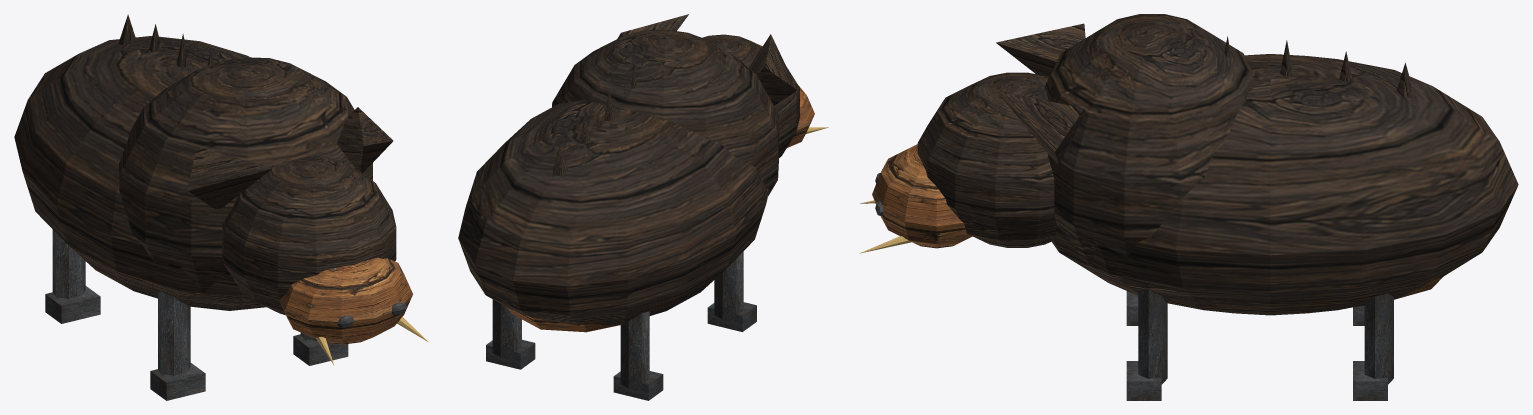
The model's file is wild-hog.glb.
3 renders of one model, left to right at view 1: azimuth 30°, elevation 25°; view 2: azimuth 150°, elevation 25°; view 3: azimuth 270°, elevation 25°, orthographic. The views are drawn at different scales.
Parts seen in each view (by area): view 1: wild-hog_merged_mesh; view 2: wild-hog_merged_mesh; view 3: wild-hog_merged_mesh.
Boxes of the visible parts, x1,y1,x2,y2 form: wild-hog_merged_mesh: (14,14,428,400); wild-hog_merged_mesh: (458,14,828,400); wild-hog_merged_mesh: (859,14,1518,400).
Bounding box in the file's own units: 1.24 × 1.33 × 2.45.
Materials: 6 (6 with a texture image).
